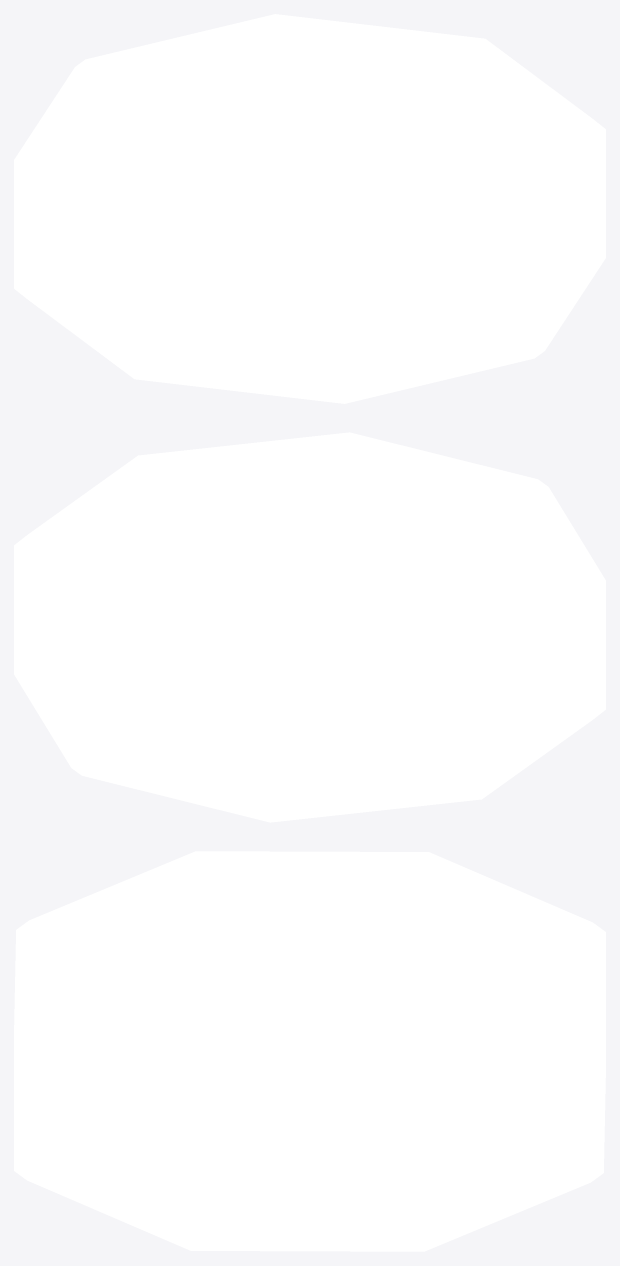
Rendered from coin_silver.gltf.
3 renders of one model, top to bottom at view 1: azimuth 30°, elevation 25°; view 2: azimuth 150°, elevation 25°; view 3: azimuth 270°, elevation 25°, orthographic. The views are drawn at different scales.
Parts seen in each view (by area): view 1: coin; view 2: coin; view 3: coin.
Part boxes in pixels (x1=…): coin: x1=14, y1=14, x2=605, y2=403; coin: x1=14, y1=432, x2=605, y2=822; coin: x1=14, y1=851, x2=605, y2=1251.
Size of the model in its own units: 3.32 by 1 by 3.32.
1 material, 1 textured.
